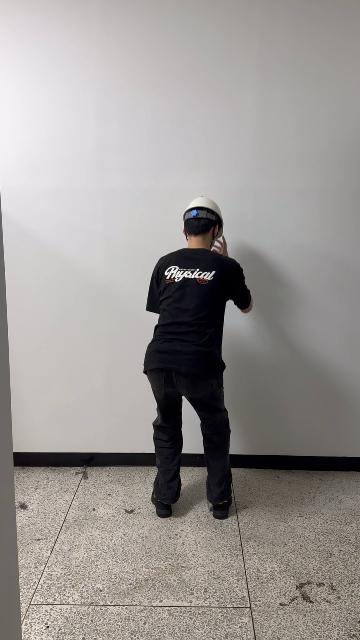helmet_worn: (182, 196, 224, 240)
shoe_worn: (153, 489, 173, 518), (208, 494, 231, 519)
vest_not_worn: (150, 251, 226, 394)
